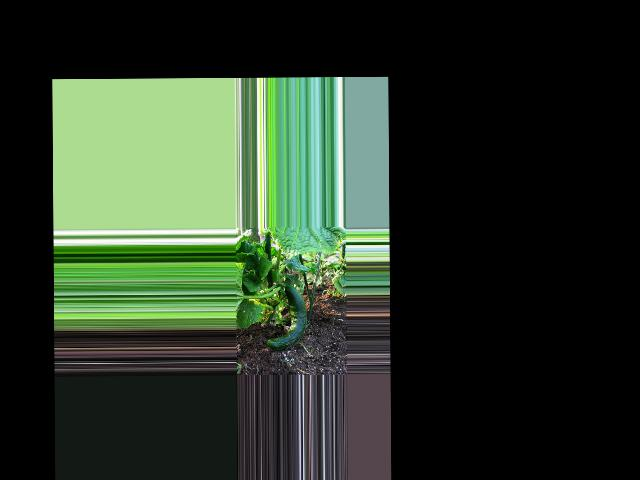cucumber: (265, 284, 307, 350)
